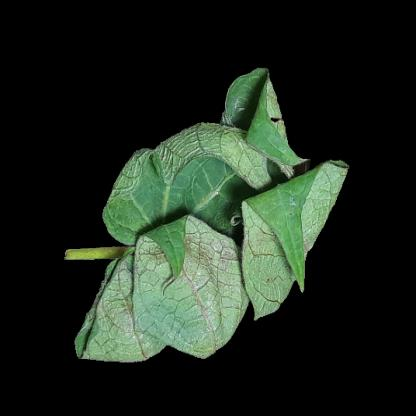curl_stage2: (131, 201, 237, 333), (224, 129, 289, 287), (132, 163, 229, 208), (290, 176, 329, 221)
